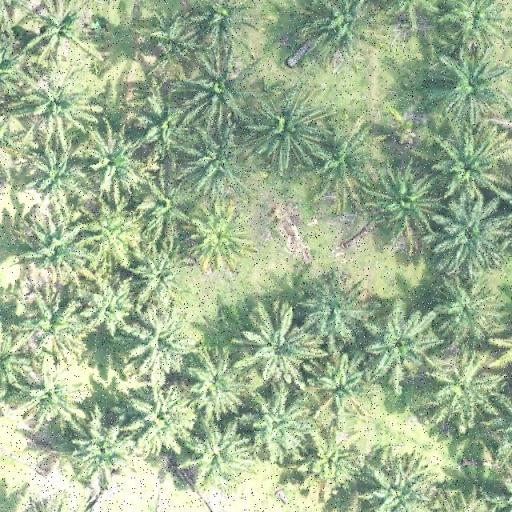Ganoderma: (23, 372, 74, 419), (30, 6, 80, 50), (194, 213, 240, 260), (86, 214, 135, 258), (310, 438, 356, 484)
